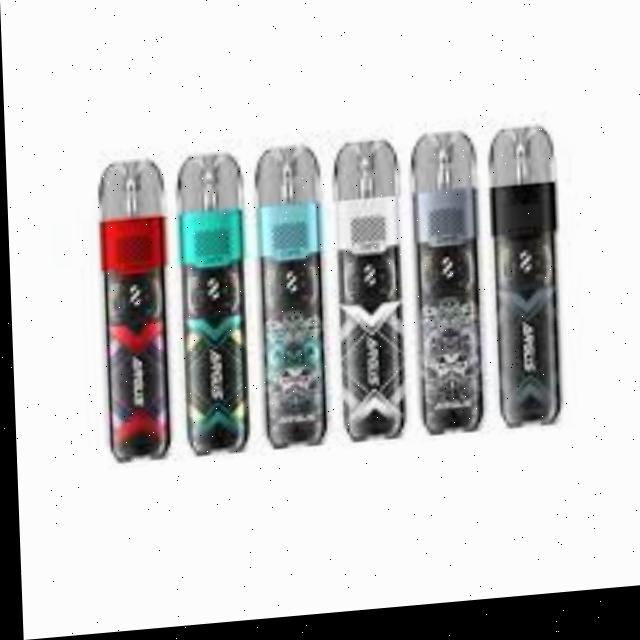vape: (329, 145, 410, 455), (407, 138, 488, 442), (251, 148, 328, 461), (173, 154, 251, 461), (486, 133, 562, 441), (95, 157, 169, 468)
